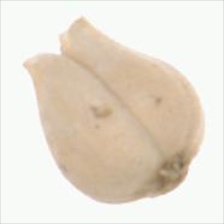L1: (21, 15, 88, 70), (142, 152, 195, 196)
L2: (22, 17, 205, 203)
